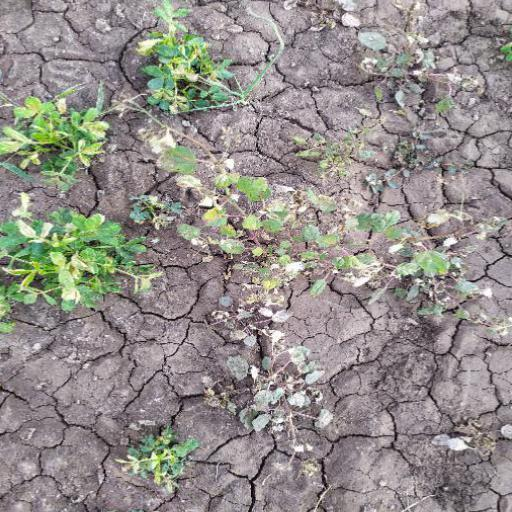weed: (152, 139, 485, 345), (10, 37, 137, 313), (339, 8, 512, 106), (109, 7, 245, 111)
